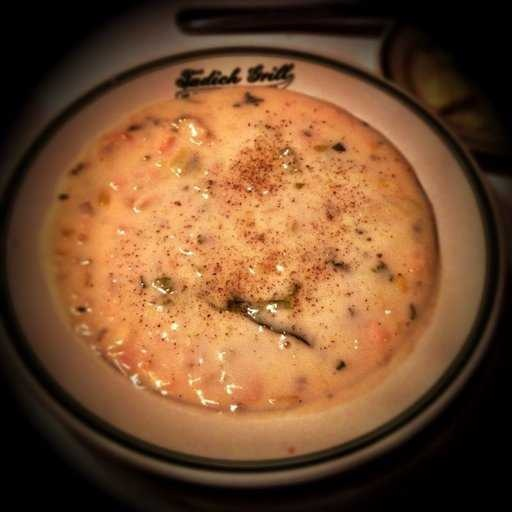soup: (41, 100, 423, 386)
